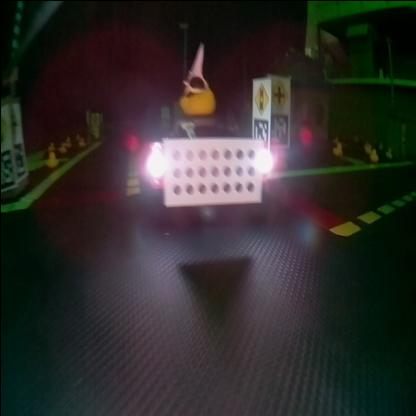Duckie: (178, 86, 214, 115), (46, 150, 57, 164), (332, 142, 340, 154), (370, 148, 376, 160)
Duckiebot: (145, 127, 266, 203)
Intersection sign: (270, 77, 286, 107)
QR code: (270, 112, 288, 145), (1, 147, 15, 185), (13, 141, 25, 179), (252, 117, 266, 145)
Signal sign: (251, 80, 267, 110)
